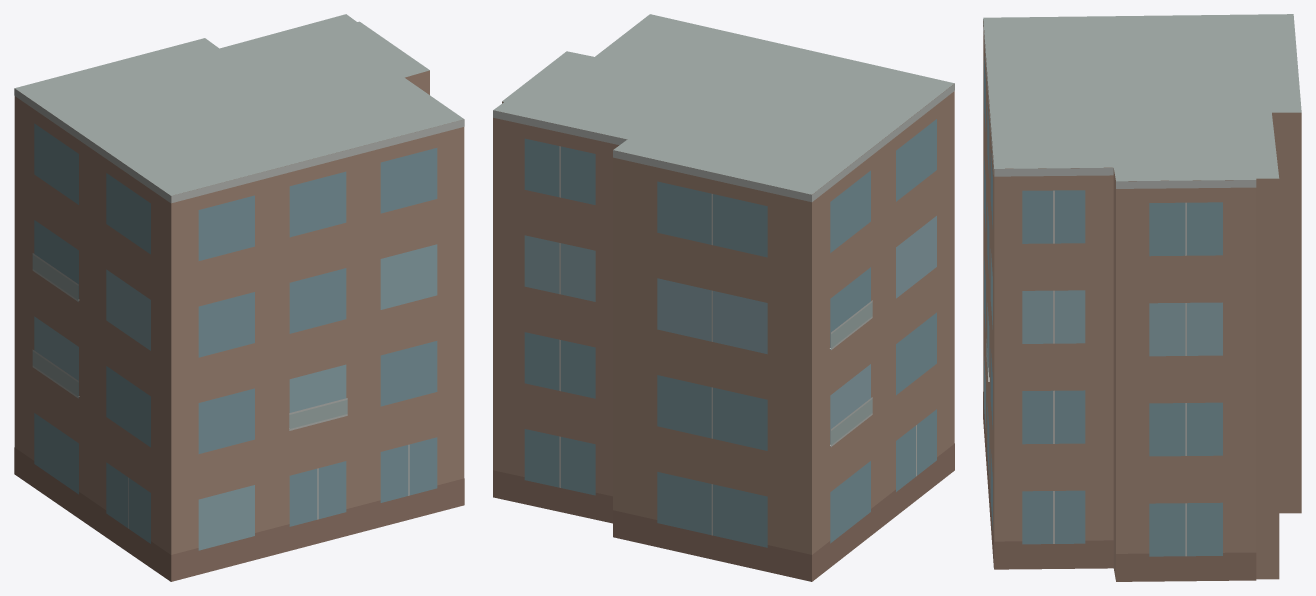
The model's file is survey-upis-32996127.glb.
The picture shows the model from 3 angles, left to right: view 1: azimuth 30°, elevation 25°; view 2: azimuth 150°, elevation 25°; view 3: azimuth 270°, elevation 25°; orthographic projection. The views are drawn at different scales.
Visible parts, largest first — view 1: survey-upis-32996127.tmp; view 2: survey-upis-32996127.tmp; view 3: survey-upis-32996127.tmp.
Part boxes in pixels (x1,y1,x2,y2): survey-upis-32996127.tmp: [14, 14, 464, 581]; survey-upis-32996127.tmp: [493, 14, 954, 581]; survey-upis-32996127.tmp: [983, 14, 1301, 581].
Size of the model in its own units: 11.28 by 12.59 by 9.08.
